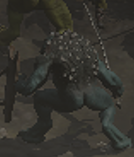{"type":"monster","name":"eldritch","status":"alive","facing":"away"}: (37, 29, 124, 150)
